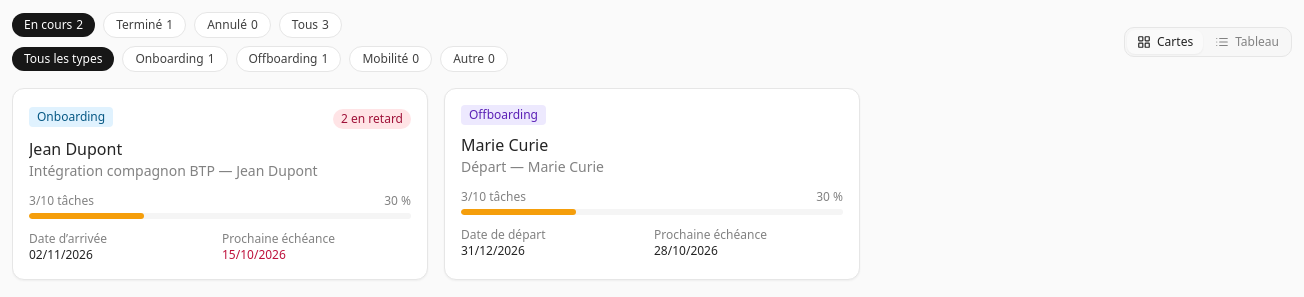
Scenario: ProcessusListe › filtre par type et par statut
Click the button "Offboarding 1": (288, 59) [236,46,341,72]
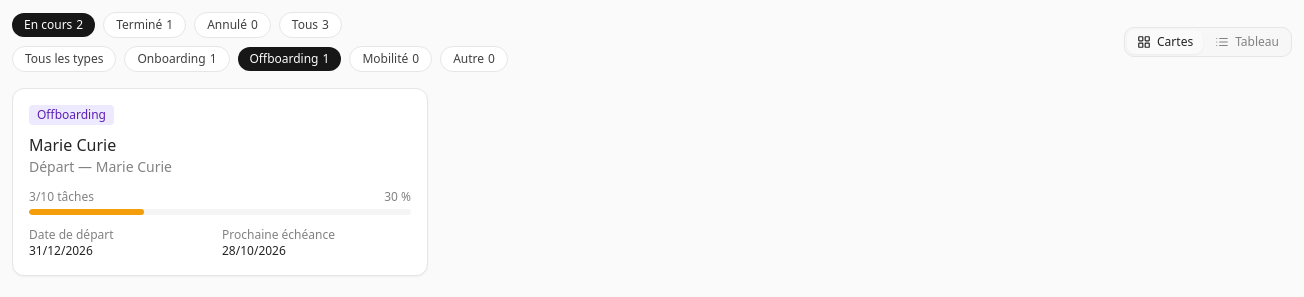
expect the text "Marie Curie" is shown: met, box [29,134,116,156]
expect the link "Jean Dupont" is gone: met
Click the button "Tous les types": (64, 59) [12,46,116,72]
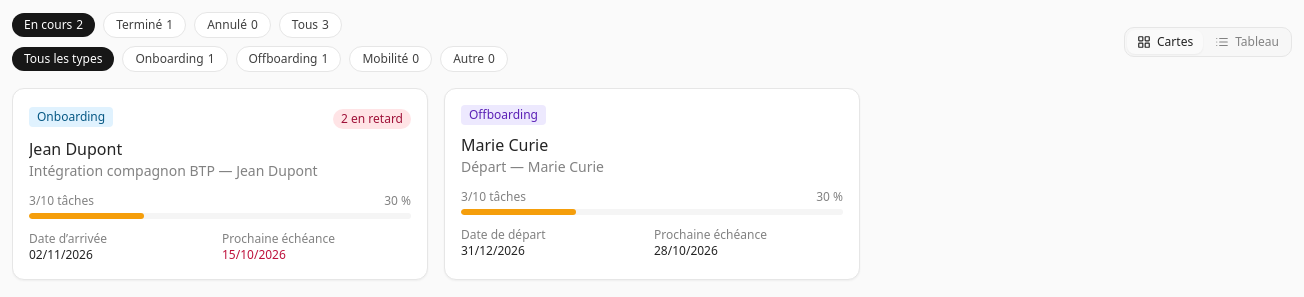
Click the button "Terminé 1": (145, 25) [103,12,186,38]
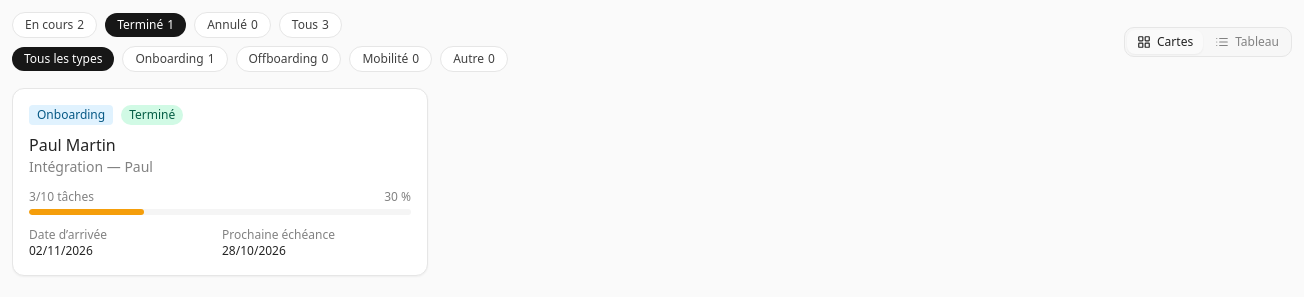
expect the text "Paul Martin" is shown: met, box [29,134,116,156]
expect the link "Marie Curie" is gone: met
